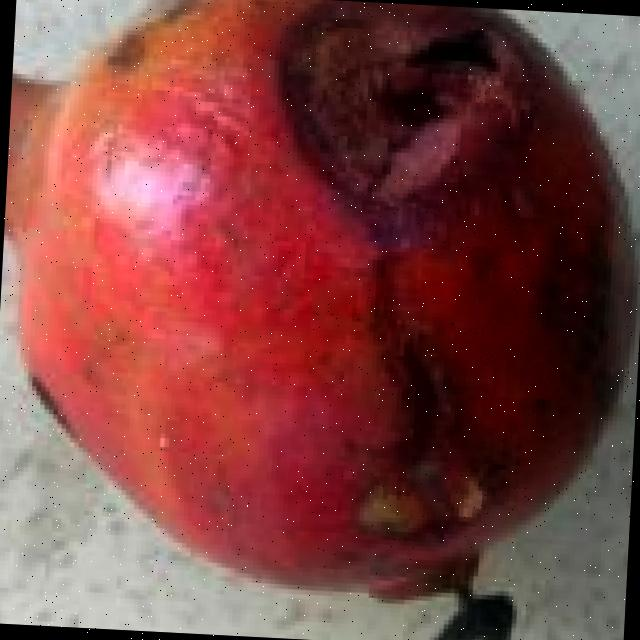Bad_Pomegranate-0-1-day: (4, 0, 639, 640)
